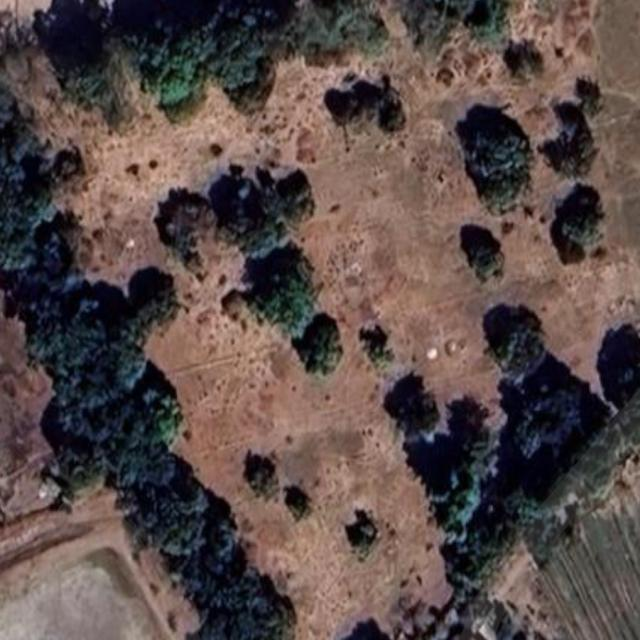Tree: (38, 284, 175, 410), (4, 115, 76, 268), (125, 10, 203, 114), (192, 565, 297, 640), (225, 175, 319, 257), (107, 384, 176, 487), (191, 5, 274, 87), (132, 462, 204, 554), (465, 123, 529, 220), (264, 248, 315, 330), (596, 321, 640, 405), (491, 318, 548, 380), (558, 184, 605, 252), (302, 316, 350, 375), (400, 378, 443, 442), (466, 239, 504, 285), (254, 466, 281, 503)
